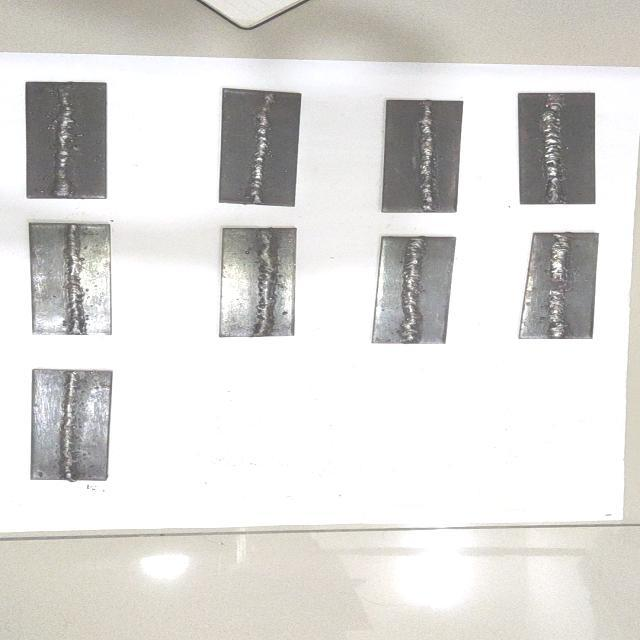Defect: (247, 92, 280, 122), (542, 276, 574, 294)
Welding Line: (540, 94, 566, 202), (248, 92, 272, 205), (58, 372, 81, 478), (64, 224, 86, 334), (548, 235, 569, 338), (254, 230, 274, 334), (420, 101, 438, 211), (402, 238, 420, 344), (57, 84, 73, 198)
Workpiece: (21, 80, 110, 202), (27, 220, 114, 336), (218, 87, 302, 207), (514, 90, 600, 206), (28, 367, 114, 482), (369, 235, 458, 346), (381, 96, 462, 215), (516, 230, 602, 340), (218, 225, 297, 338)
